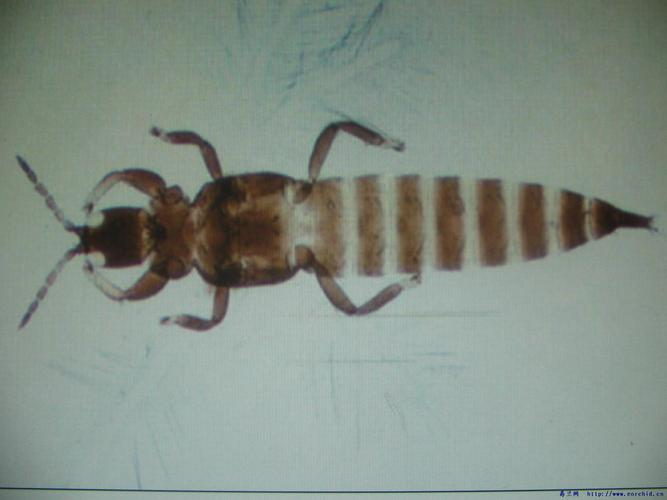Phlaeothripidae: (13, 112, 667, 340)
